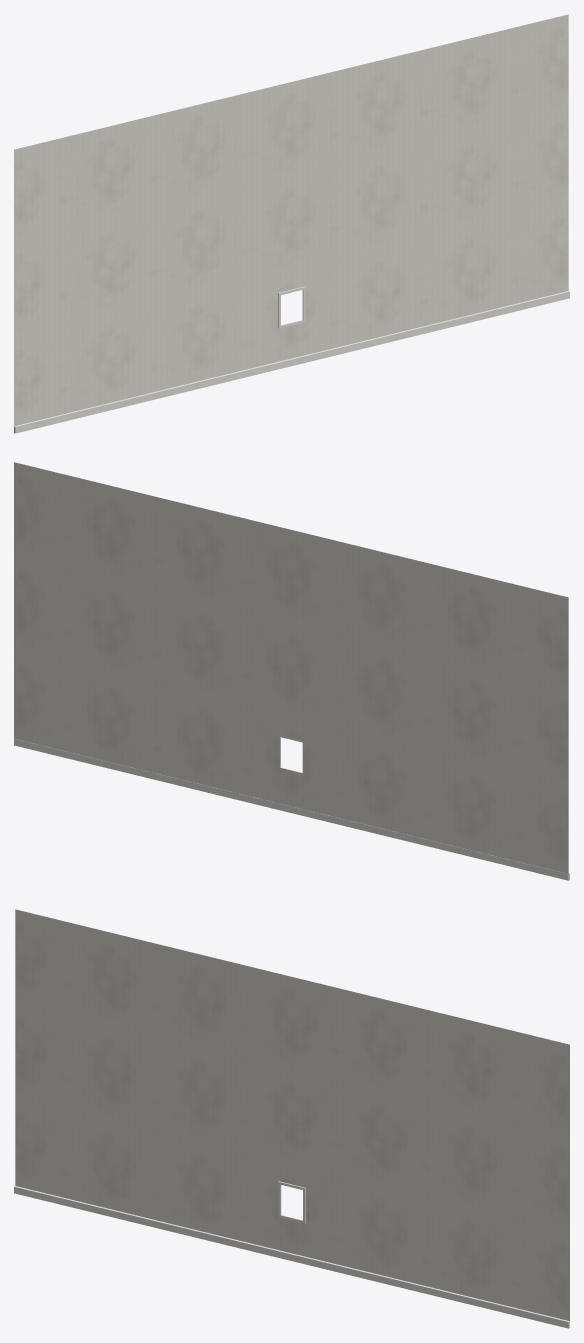
File: wall_vent_hi.gltf
The picture shows the model from 3 angles, top to bottom: view 1: azimuth 30°, elevation 25°; view 2: azimuth 150°, elevation 25°; view 3: azimuth 330°, elevation 25°; orthographic projection.
Visible parts, largest first — view 1: jx_w_vent_hi; view 2: jx_w_vent_hi; view 3: jx_w_vent_hi.
Part boxes in pixels (x1=…): jx_w_vent_hi: x1=14, y1=14, x2=569, y2=433; jx_w_vent_hi: x1=14, y1=462, x2=569, y2=880; jx_w_vent_hi: x1=14, y1=909, x2=569, y2=1328.
Size of the model in its own units: 12.3 by 6 by 0.05.
Materials: 2 (2 with a texture image).
